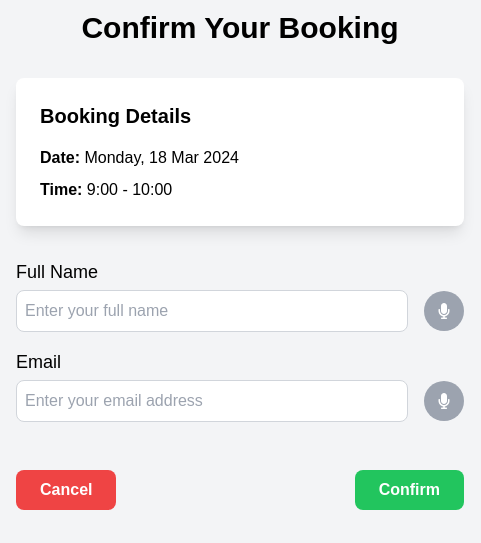
ConfirmationPage › shows validation errors for invalid name
Type "John" into the field labelled "Full Name" at (212,311), box x1=16 y1=290 x2=408 y2=332
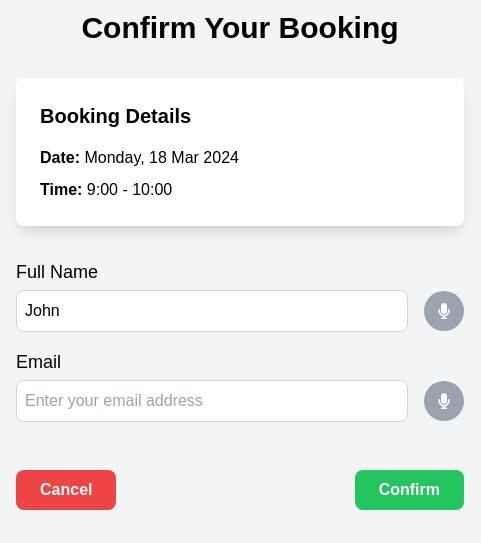
Type "test@example.com" into the field labelled "Email" at (212,401), box x1=16 y1=380 x2=408 y2=422
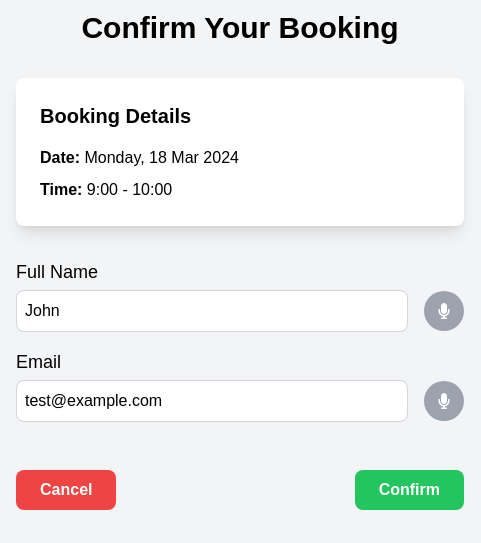
Click the button "Confirm" at (409,490), box x1=355 y1=470 x2=464 y2=510
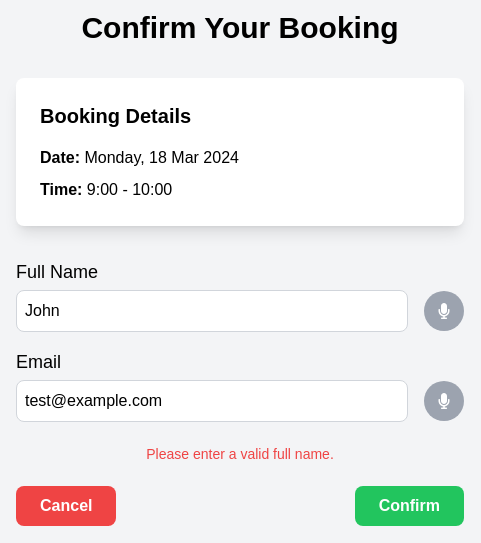
Expected: the text "Please enter a valid full name." is shown, x1=146 y1=444 x2=334 y2=464
